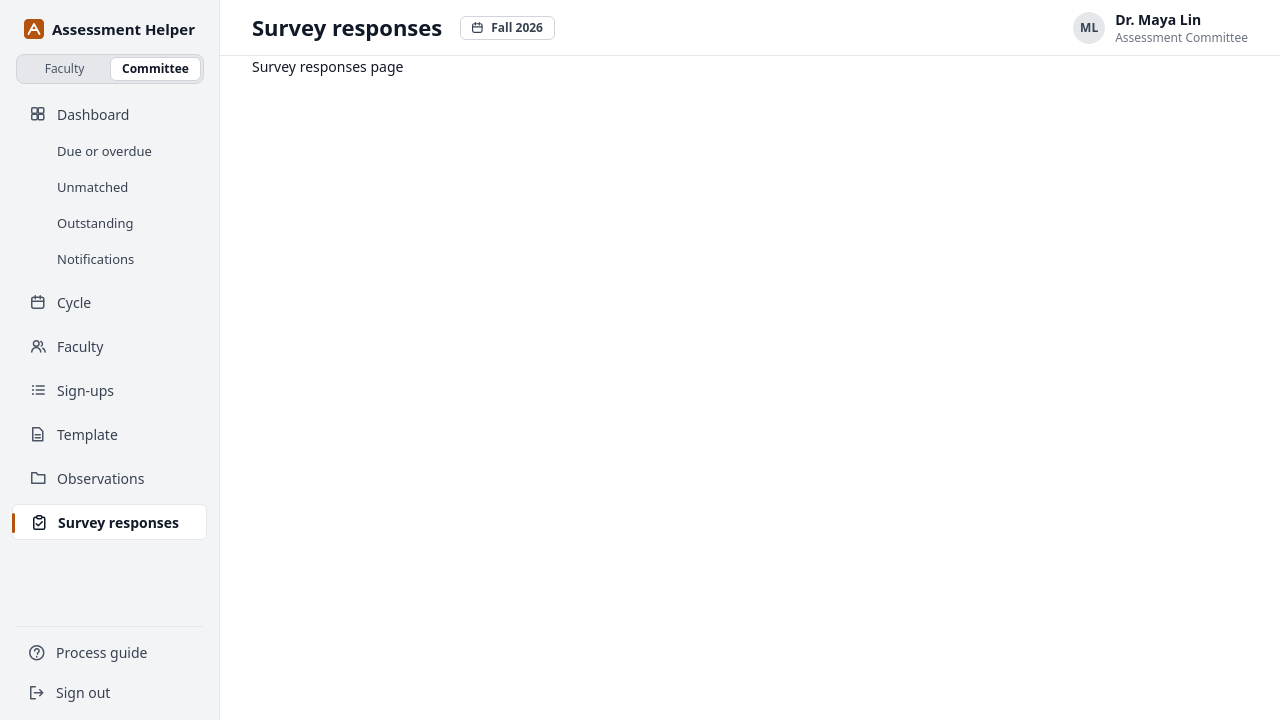
Test: Dashboard pages in the sidebar › opens each dashboard page from the sidebar and highlights only its row
Expected: the text "Survey responses page" is shown, x1=252 y1=57 x2=403 y2=76
Click the link "Dashboard" at (80, 114), box x1=31 y1=104 x2=130 y2=124
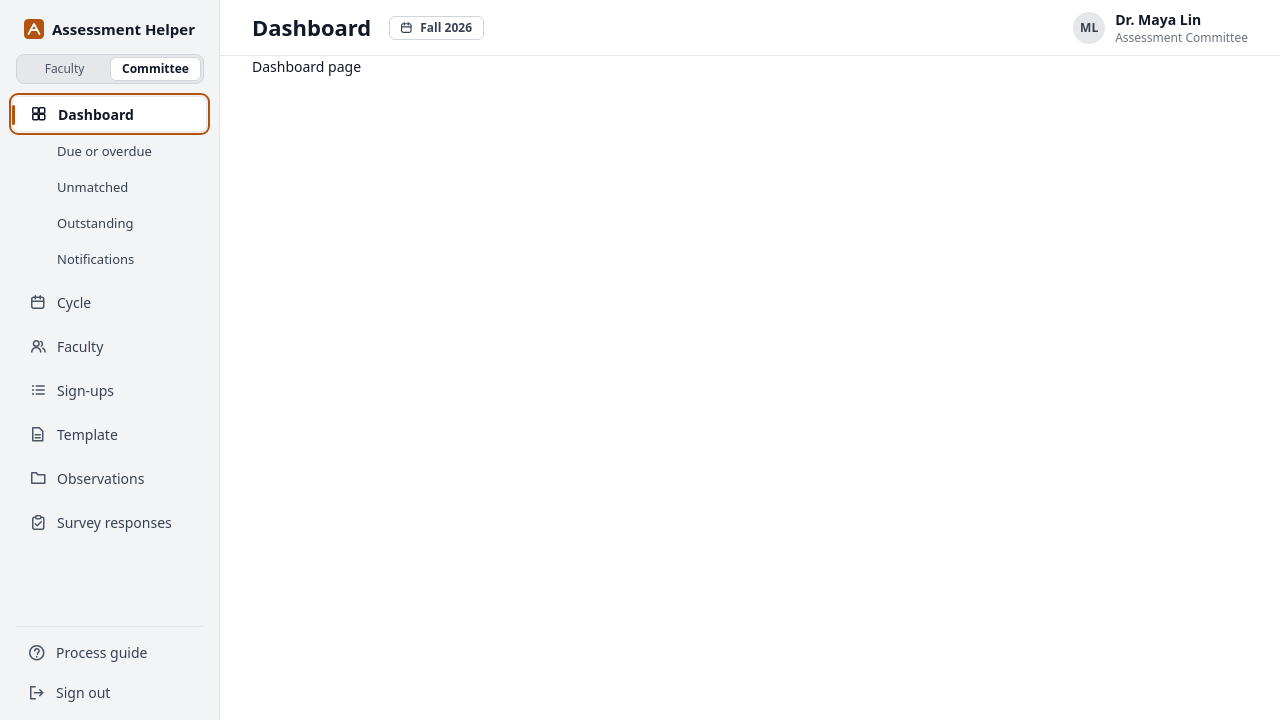
Expected: the text "Dashboard page" is shown, x1=252 y1=57 x2=361 y2=76
Click the link "Due or overdue" at (104, 151), box x1=57 y1=142 x2=152 y2=160
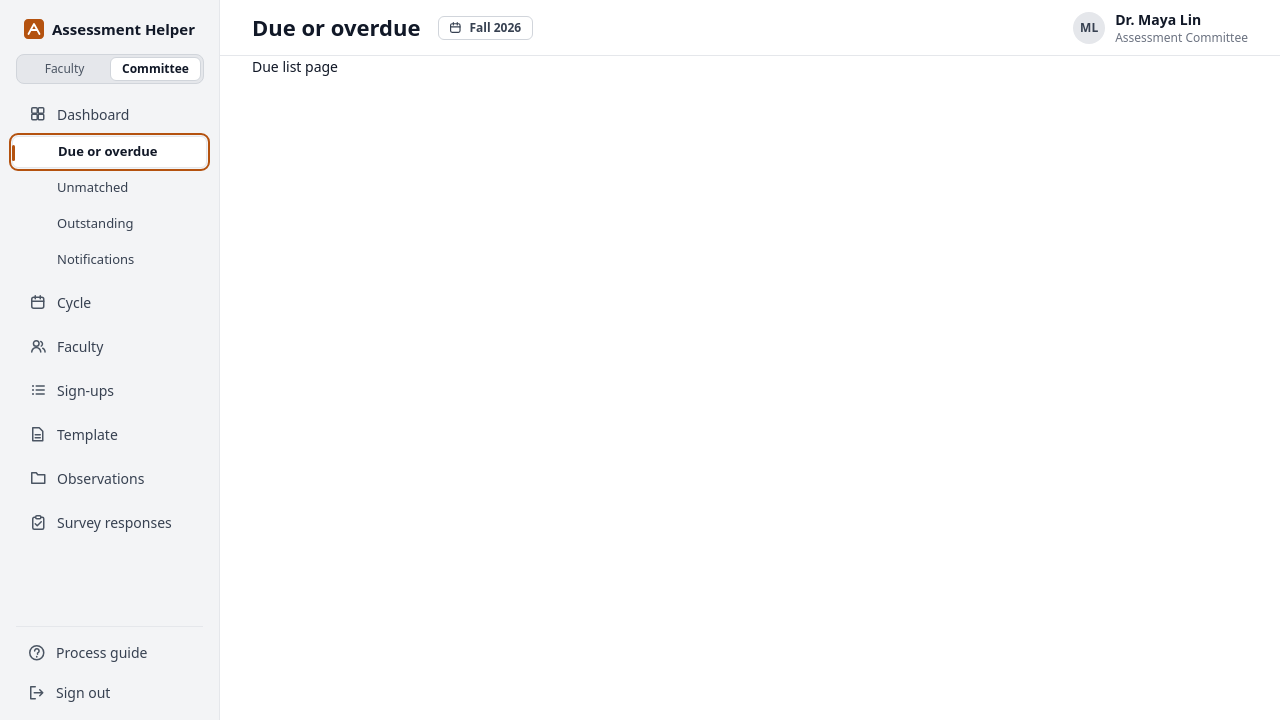
Expected: the text "Due list page" is shown, x1=252 y1=57 x2=338 y2=76
Click the link "Unmatched" at (93, 187), box x1=57 y1=178 x2=128 y2=196
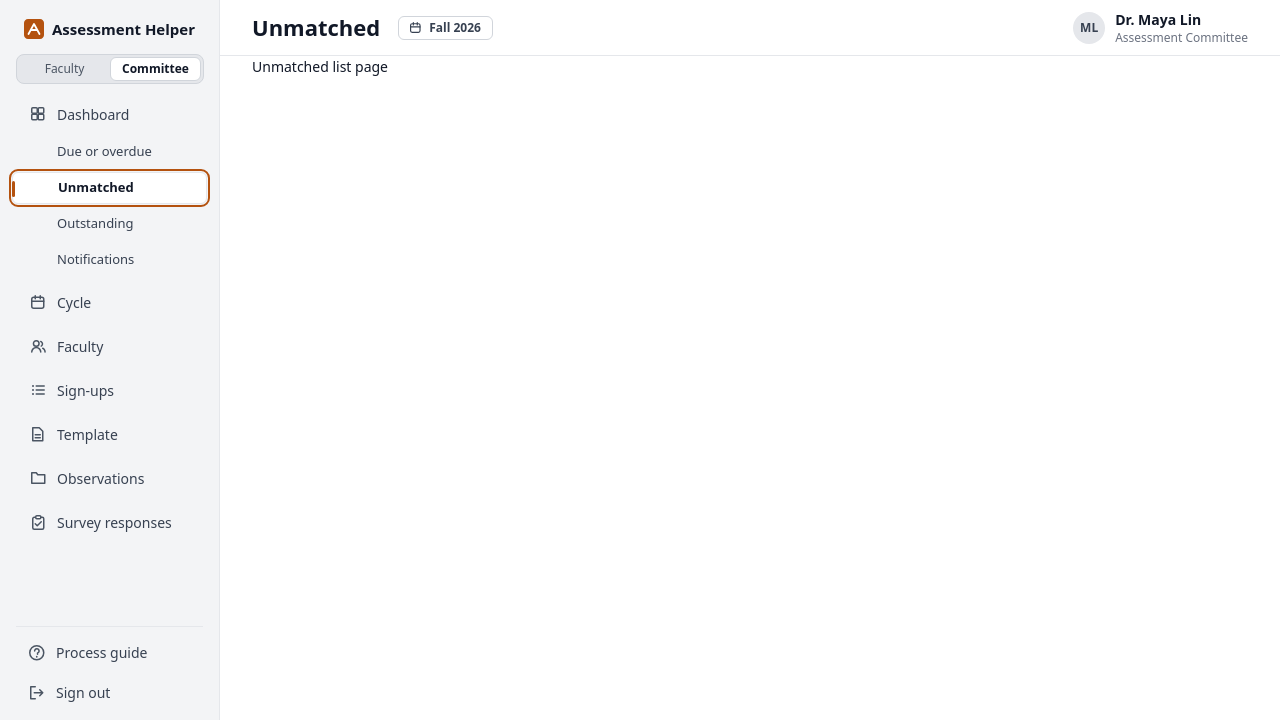
Expected: the text "Unmatched list page" is shown, x1=252 y1=57 x2=388 y2=76
Click the link "Outstanding" at (95, 223), box x1=57 y1=214 x2=134 y2=232
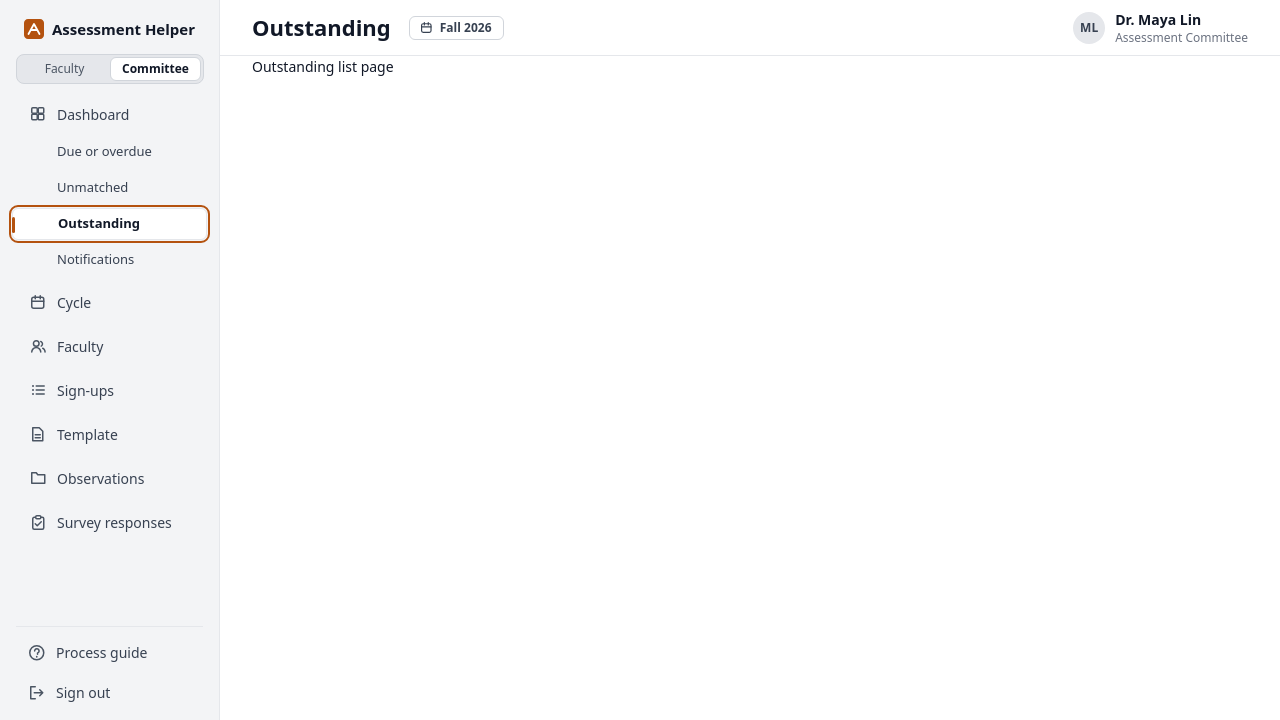
Expected: the text "Outstanding list page" is shown, x1=252 y1=57 x2=394 y2=76
Click the link "Notifications" at (96, 259), box x1=57 y1=250 x2=134 y2=268
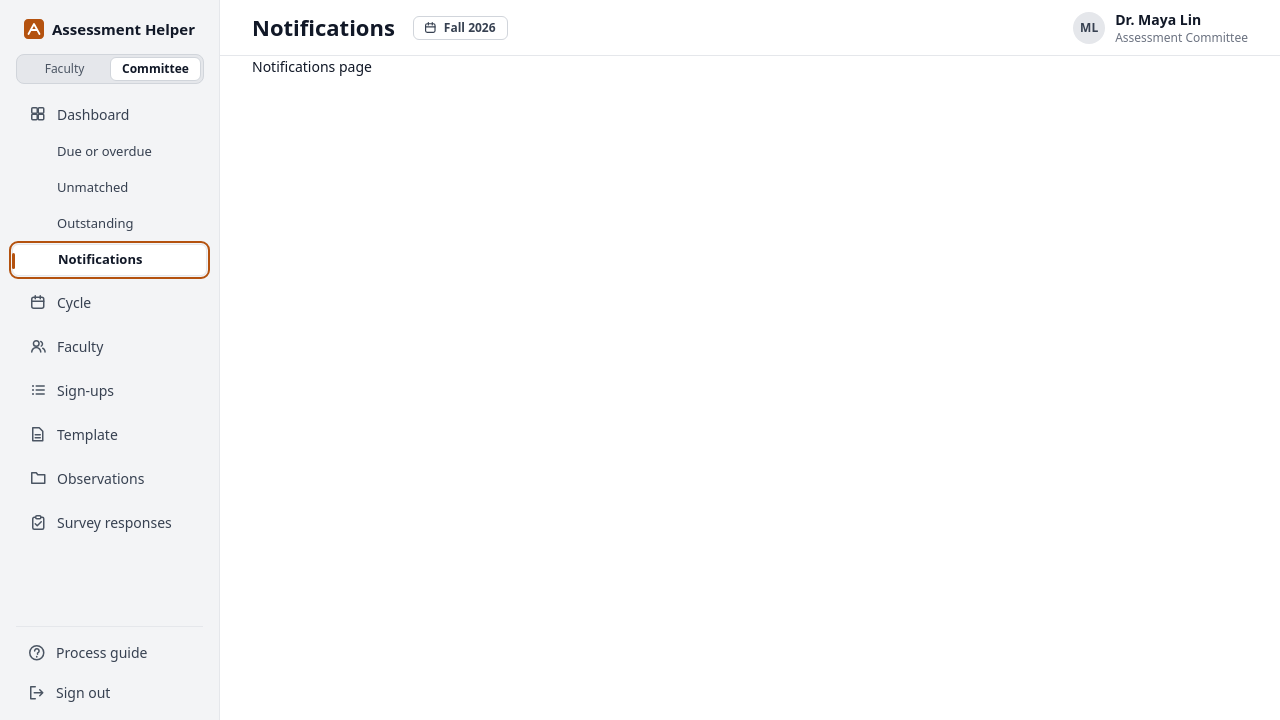
Expected: the text "Notifications page" is shown, x1=252 y1=57 x2=372 y2=76
